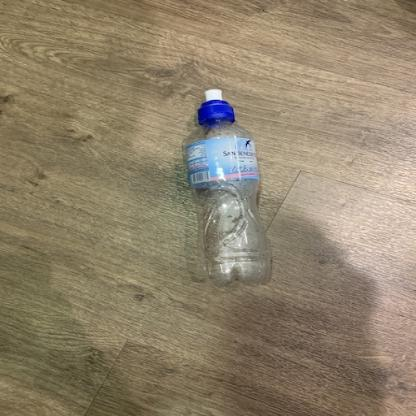trash: (183, 89, 275, 289)
